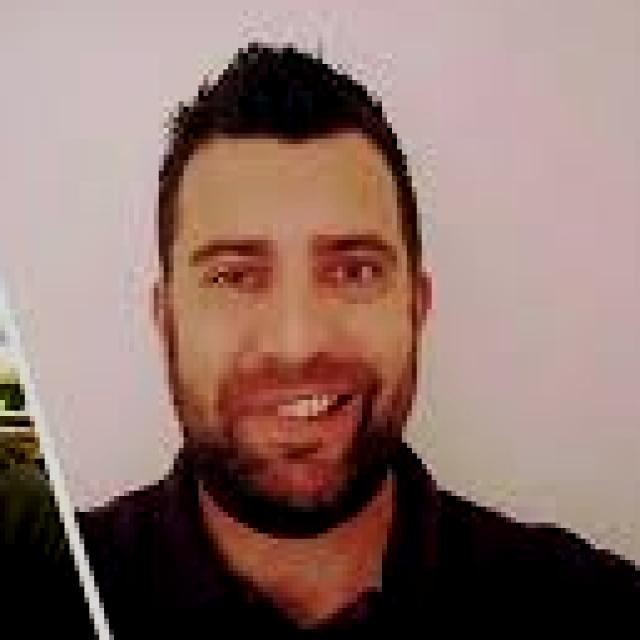stroke_face: (180, 101, 404, 544)
